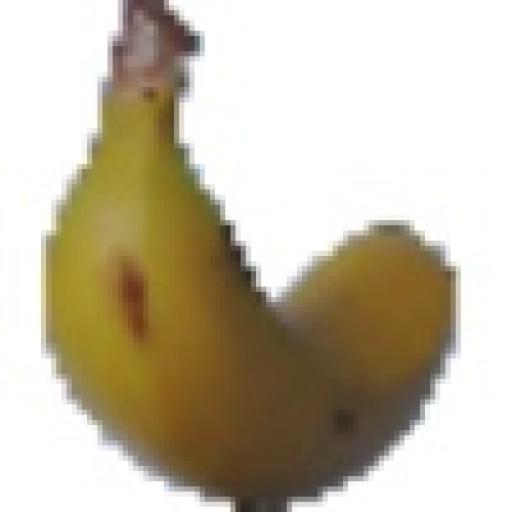banana: (47, 6, 343, 496), (277, 226, 455, 471)
